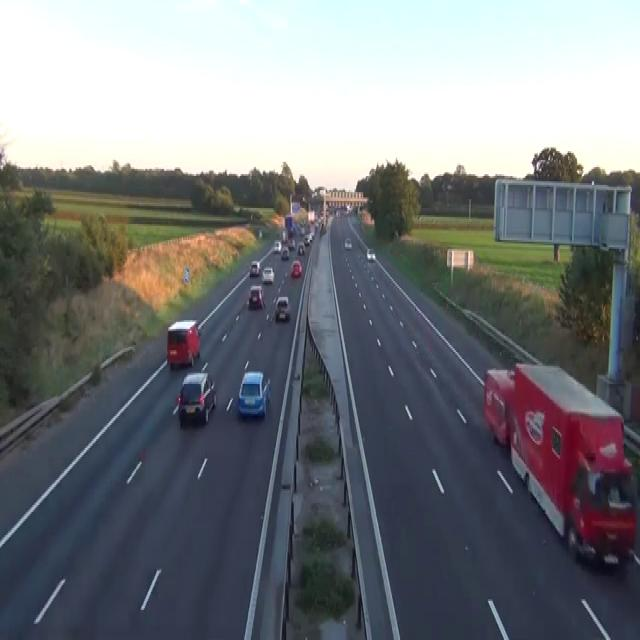Car: (483, 366, 515, 446), (177, 372, 217, 423), (237, 370, 270, 418), (247, 284, 265, 310), (274, 295, 290, 320), (290, 260, 302, 278), (261, 266, 274, 282), (249, 260, 260, 276), (366, 247, 375, 261), (281, 246, 289, 260), (344, 236, 352, 249), (273, 240, 281, 252), (319, 222, 326, 235), (297, 242, 304, 254), (303, 233, 310, 245), (288, 238, 295, 249), (282, 229, 287, 242), (346, 203, 352, 213), (309, 231, 314, 240), (258, 228, 262, 238), (299, 226, 304, 234)
Truck: (507, 361, 637, 569), (166, 318, 201, 368)
